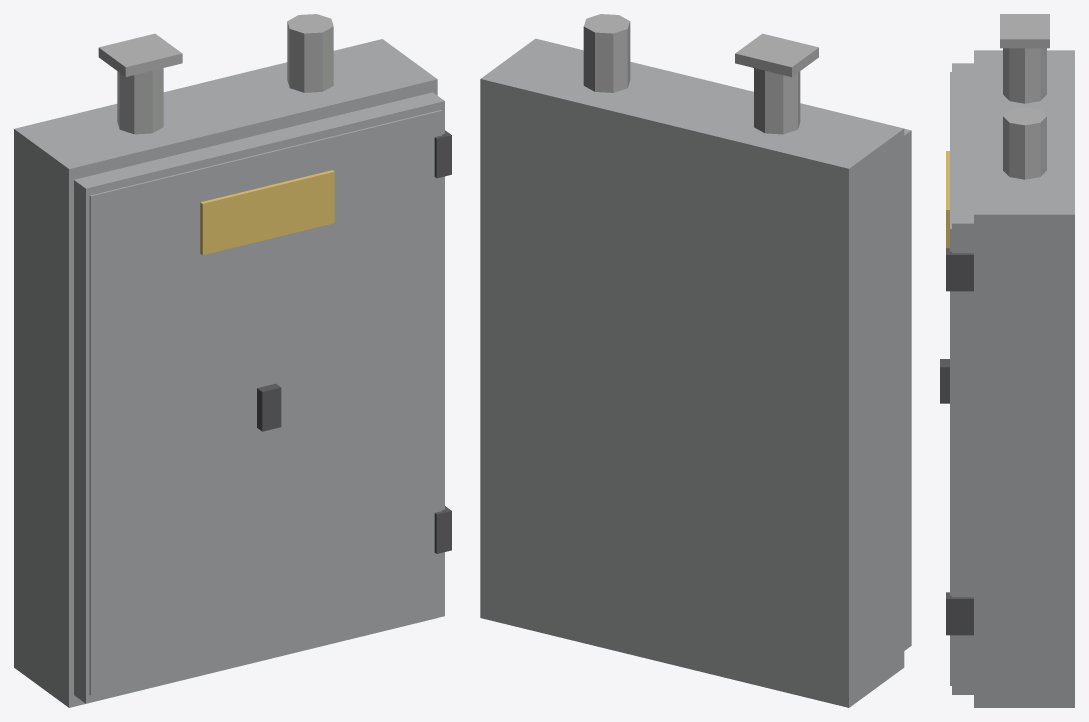
Rendered from powerbox.glb.
3 views of the same model, side by side, from view 1: azimuth 30°, elevation 25°; view 2: azimuth 150°, elevation 25°; view 3: azimuth 270°, elevation 25° (orthographic). The views are drawn at different scales.
Visible parts, largest first — view 1: NC_powerbox; view 2: NC_powerbox; view 3: NC_powerbox.
Part boxes in pixels (x1=…): NC_powerbox: x1=14, y1=14, x2=451, y2=707; NC_powerbox: x1=480, y1=14, x2=911, y2=707; NC_powerbox: x1=940, y1=14, x2=1074, y2=707.
Size of the model in its own units: 0.39 by 0.62 by 0.135.
